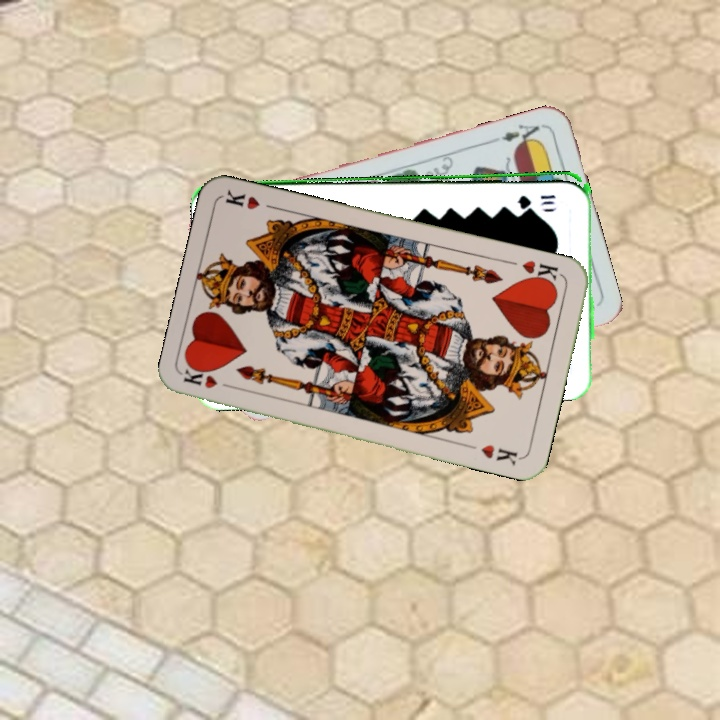EA: (497, 119, 546, 149)
G10: (513, 191, 558, 207)
HK: (180, 365, 240, 392), (518, 256, 561, 288)
